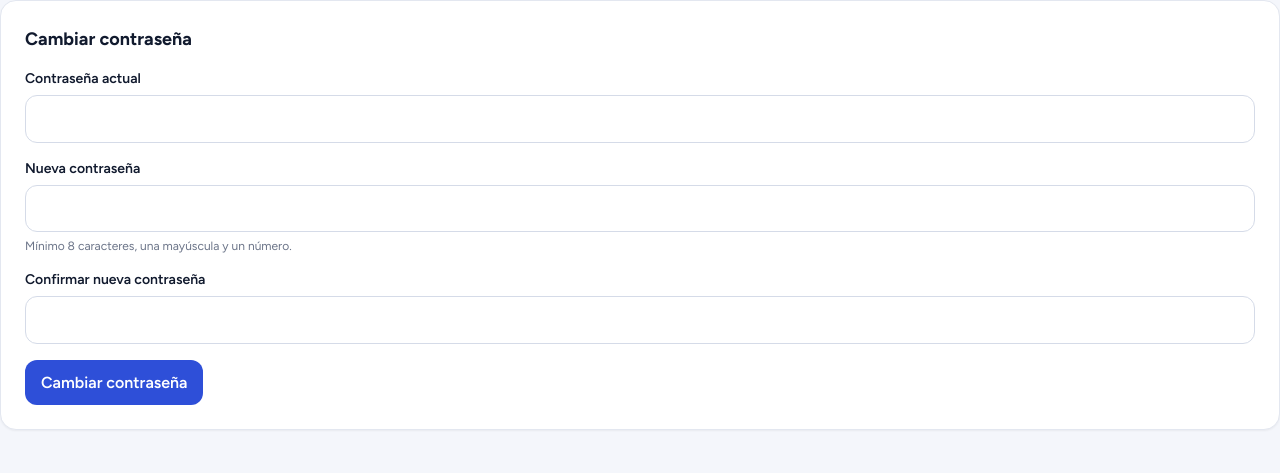
Test: FormCambioPassword › aplica las reglas de fortaleza a la nueva contraseña
The width and height of the screenshot is (1280, 473).
Type "Actual123" into the password field labelled "Contraseña actual" at (640, 119), box [25, 95, 1255, 143]
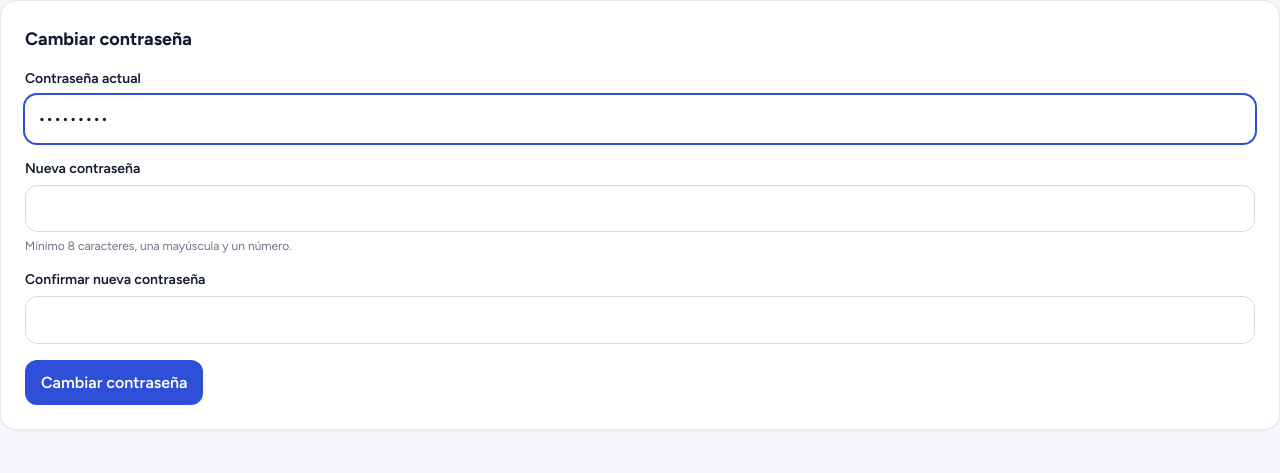
Type "debil" into the password field labelled "Nueva contraseña" at (640, 208), box [25, 185, 1255, 232]
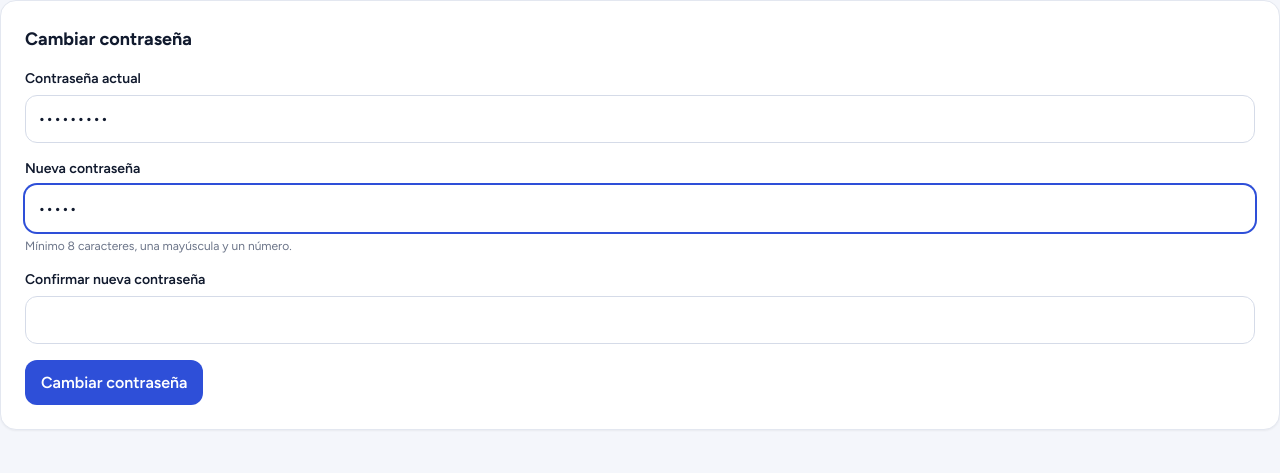
Type "debil" into the password field labelled "Confirmar nueva contraseña" at (640, 320), box [25, 296, 1255, 344]
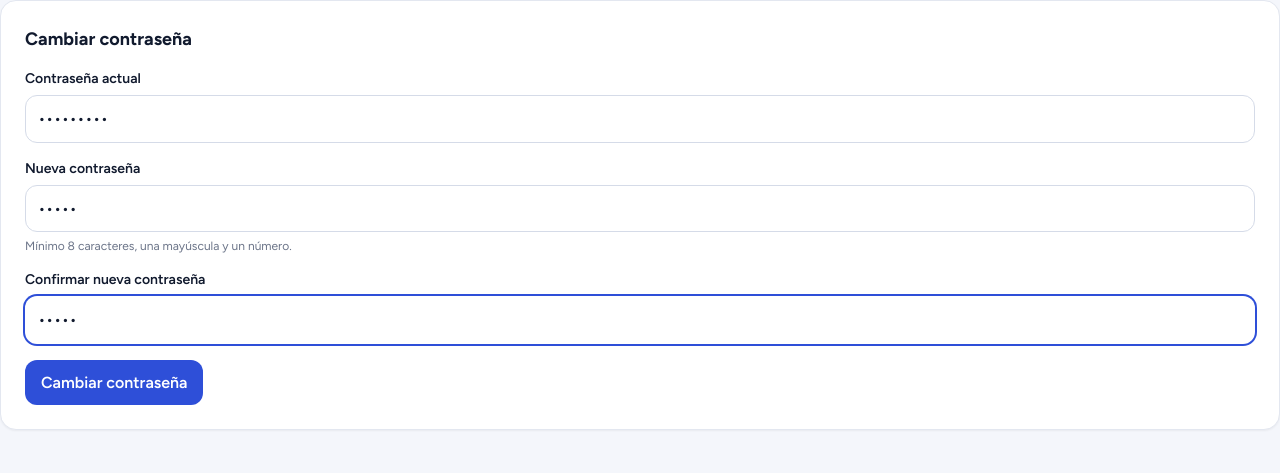
Click the button "Cambiar contraseña" at (114, 383), box [25, 360, 204, 405]
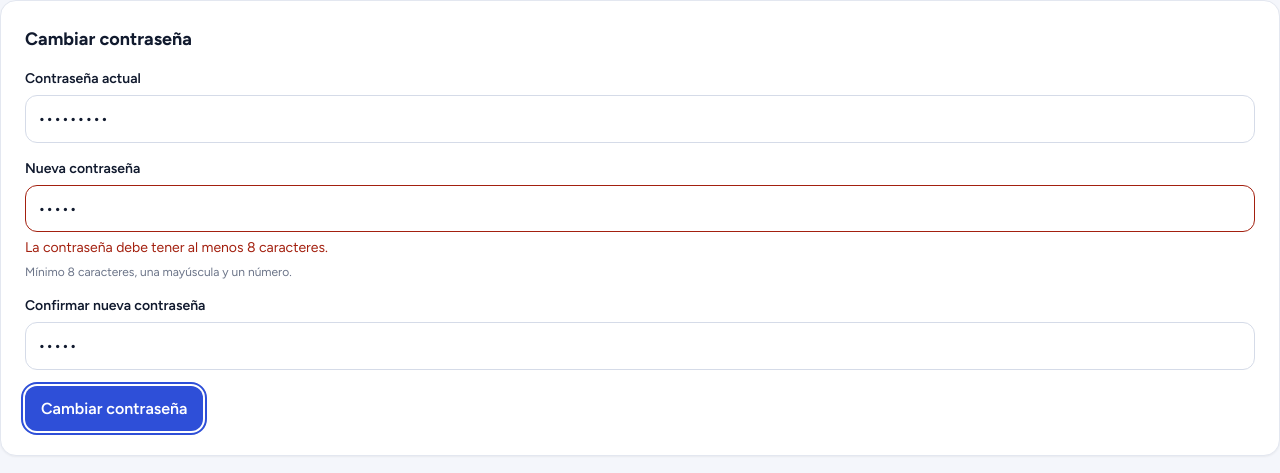
expect the text "La contraseña debe tener al menos 8 caracteres." is shown: met, box [25, 239, 328, 256]
